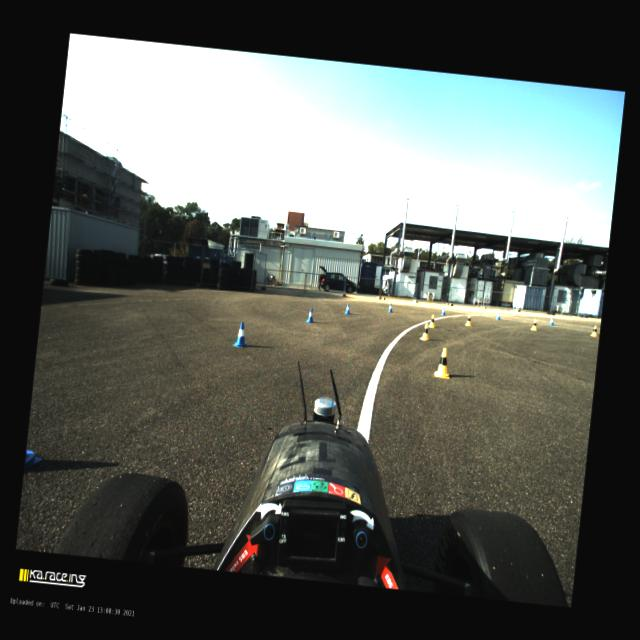blue_cone: (233, 321, 250, 347), (306, 307, 314, 322), (344, 302, 350, 314), (495, 310, 500, 320), (387, 302, 392, 312), (548, 316, 554, 324), (440, 306, 445, 314)
yellow_cone: (434, 347, 452, 378), (420, 322, 430, 340), (428, 314, 436, 328), (589, 324, 598, 336), (530, 318, 537, 331), (465, 314, 472, 326)
